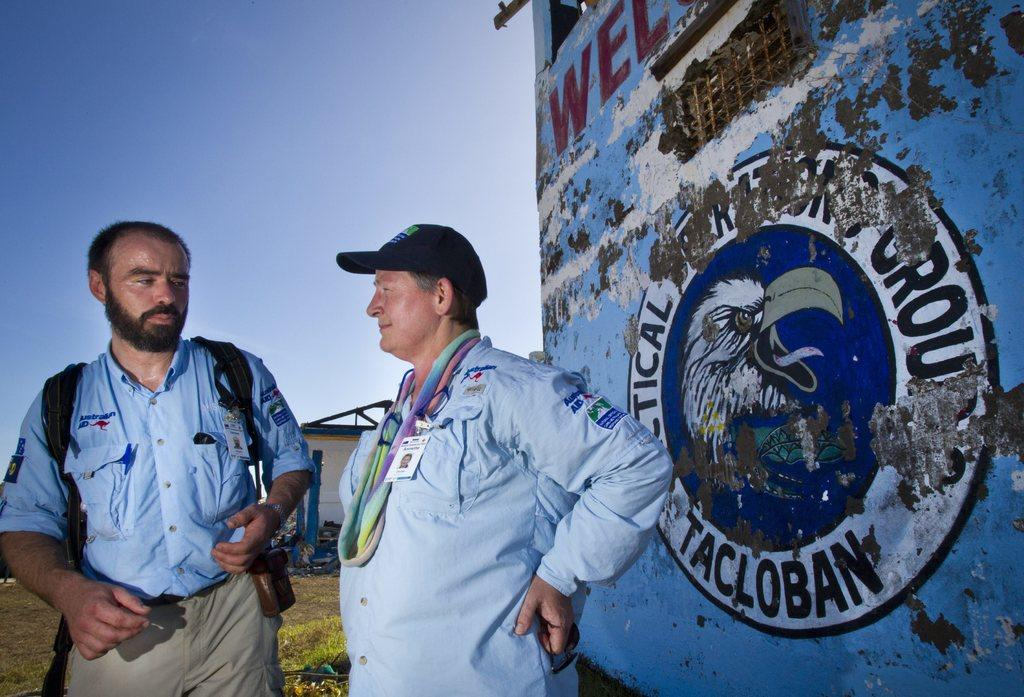Hat: (334, 223, 486, 306)
